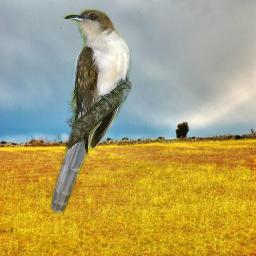Cuckoo: (50, 9, 132, 213)
